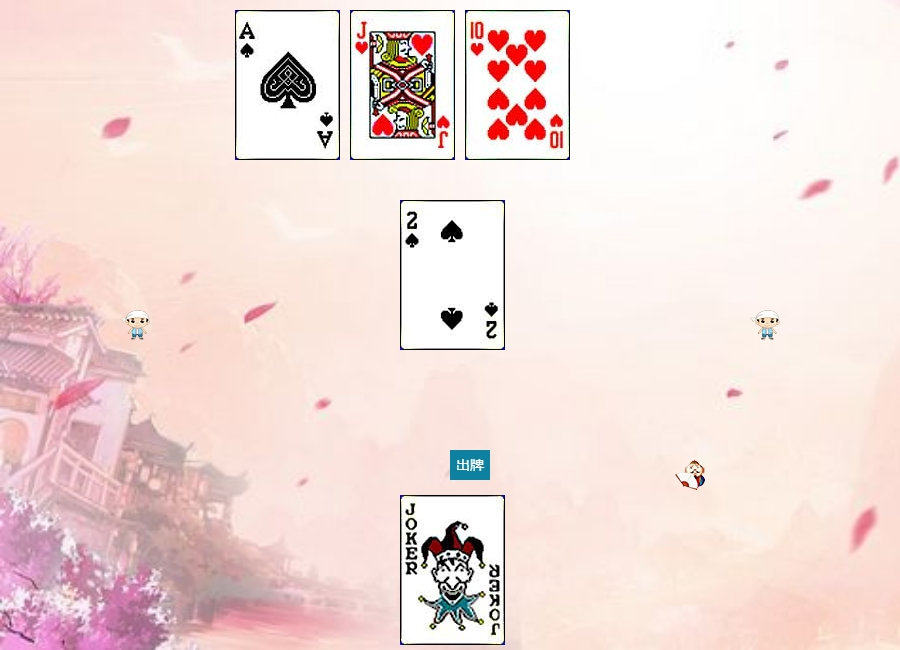10~3: (465, 10, 570, 160)
11~3: (350, 10, 455, 160)
14~4: (235, 10, 340, 160)
15~4: (400, 200, 505, 350)
17~3: (400, 495, 505, 645)
